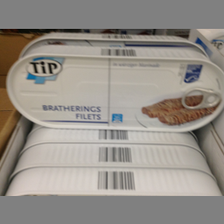fish: (8, 45, 224, 130)
